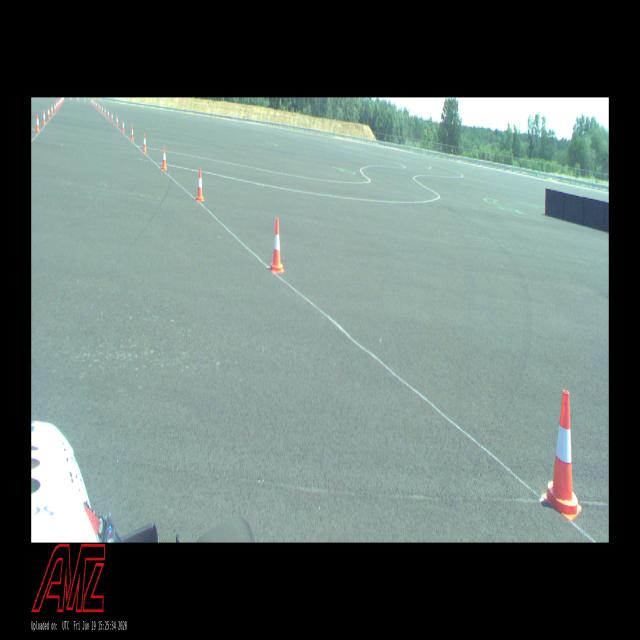orange_cone: (542, 389, 582, 521), (269, 218, 284, 272), (196, 168, 204, 202), (162, 145, 168, 170), (35, 114, 40, 132), (142, 134, 147, 152), (130, 125, 134, 141), (42, 109, 46, 124), (50, 104, 54, 116), (122, 119, 125, 133), (47, 106, 50, 120), (115, 115, 118, 126), (53, 102, 56, 113), (111, 112, 113, 122), (108, 109, 110, 118), (104, 107, 106, 116), (56, 101, 58, 109), (102, 105, 104, 113), (97, 102, 99, 109), (99, 104, 101, 111)
